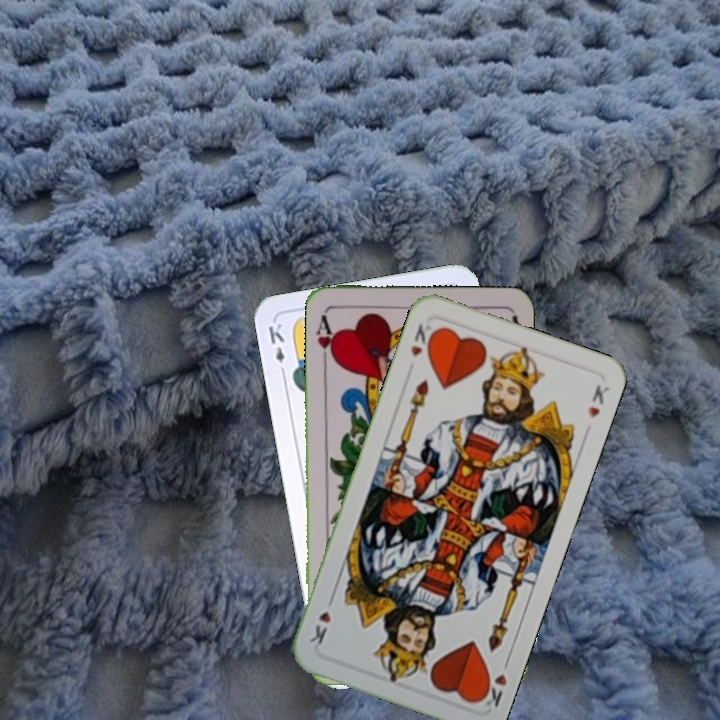EK: (264, 319, 289, 379)
HA: (312, 310, 339, 368)
HK: (475, 668, 510, 710), (406, 319, 439, 359)
